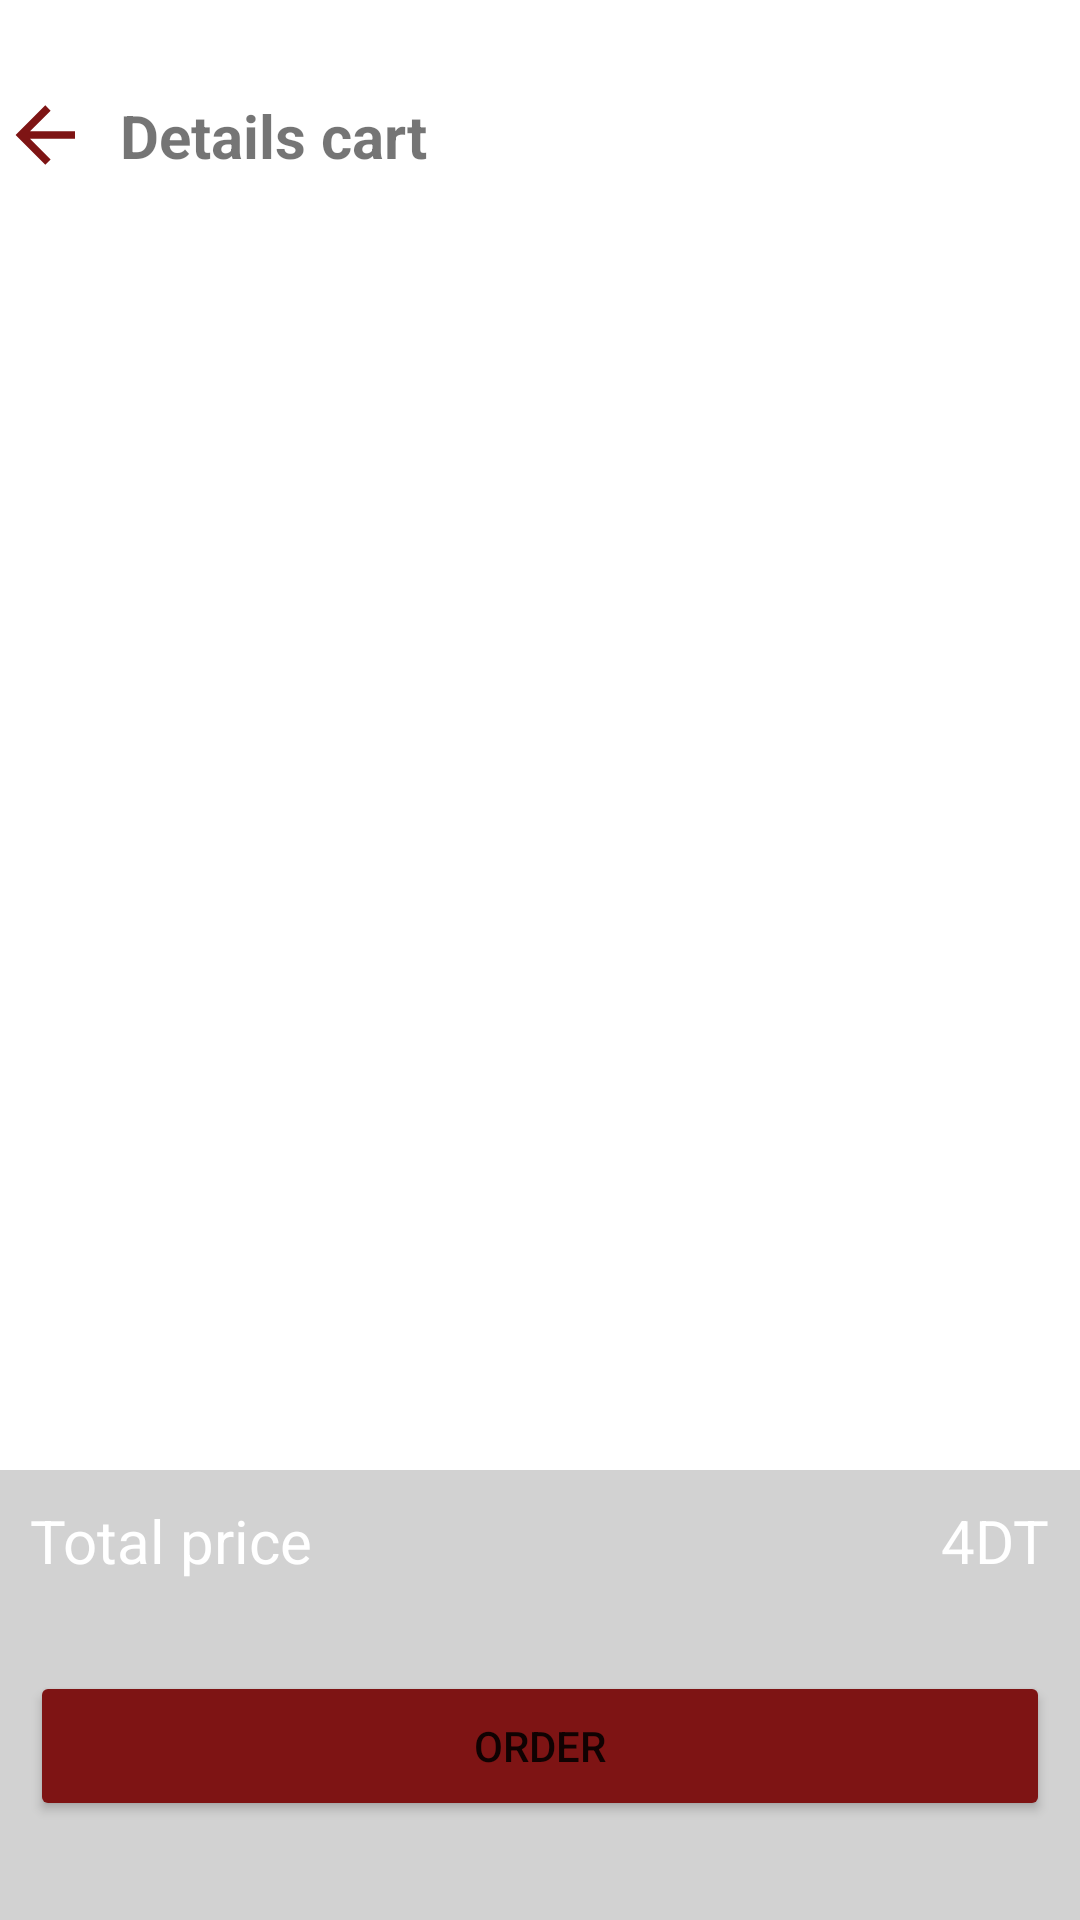

Where to tap for icons on this 1080 x 1920 app screen, as point (x, y):
arrow left: point (45, 135)
